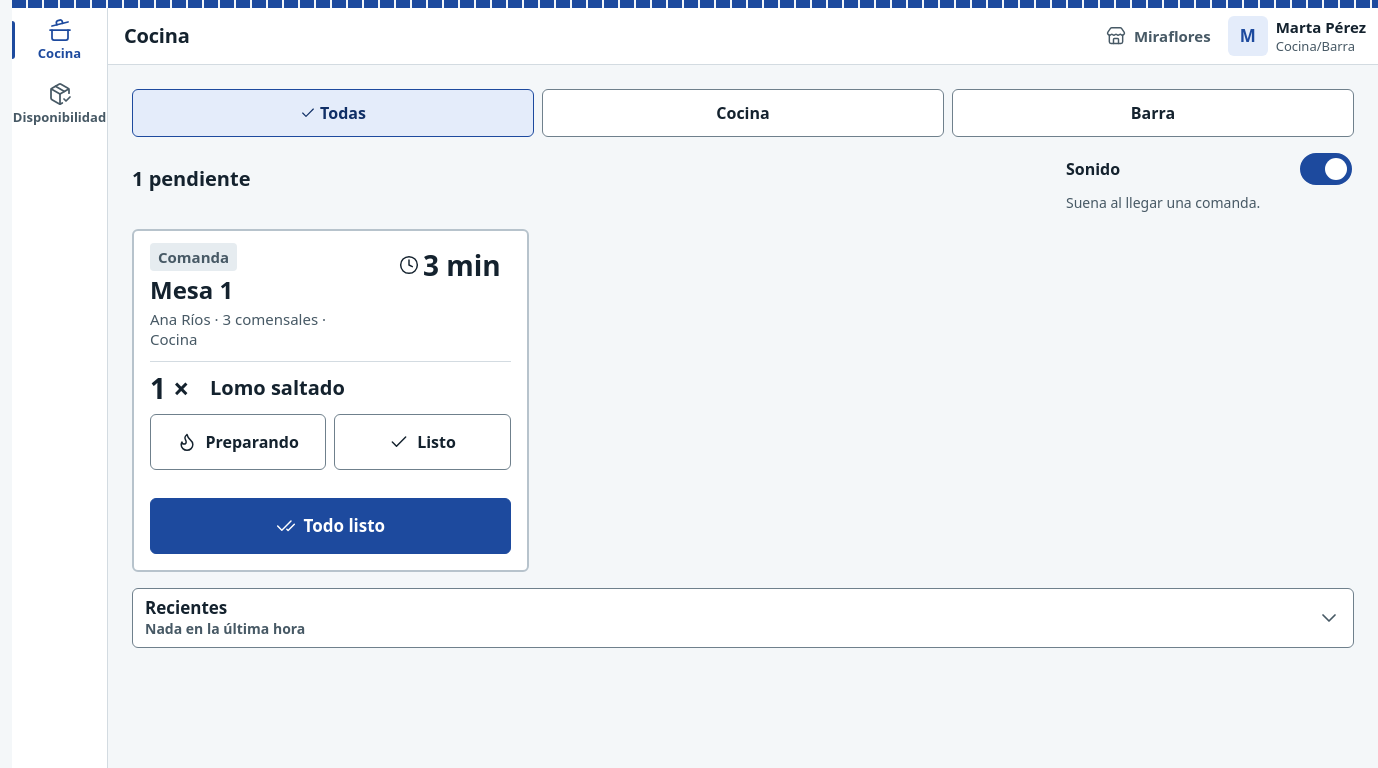
Cocina: las transiciones (criterios 58 y 59) › si la API rechaza el cambio, dice por qué y vuelve a lo que dice el servidor
(page scrolled)
Click the button with aria-label "Listo: Lomo saltado": (422, 442) [334,414,511,470]
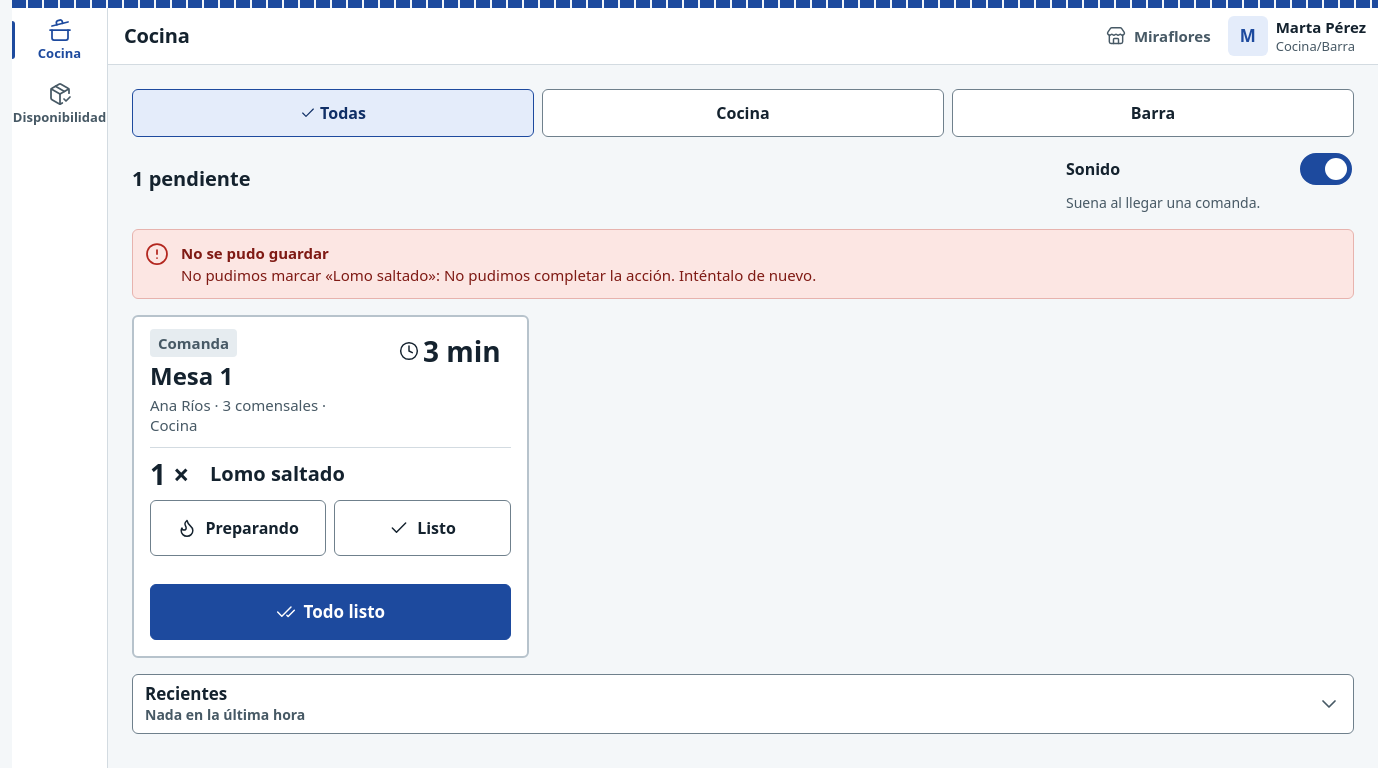
Expected: the element "Mesa 1" is shown, [132,315,529,658]
Now the message that starts with "No se pudo guardar" shows "No pudimos marcar «Lomo saltado»", box [181,265,816,285]
